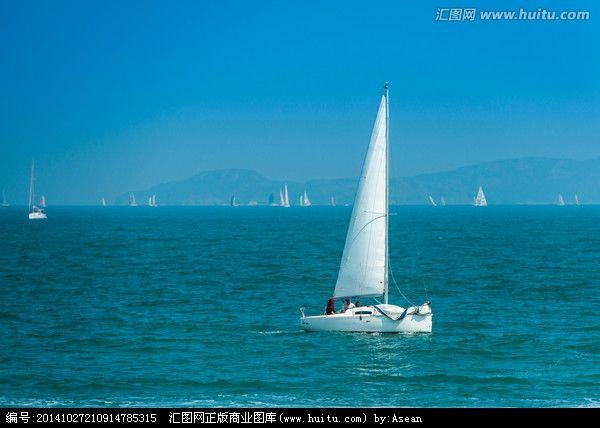fanchuan: (297, 77, 448, 335)
